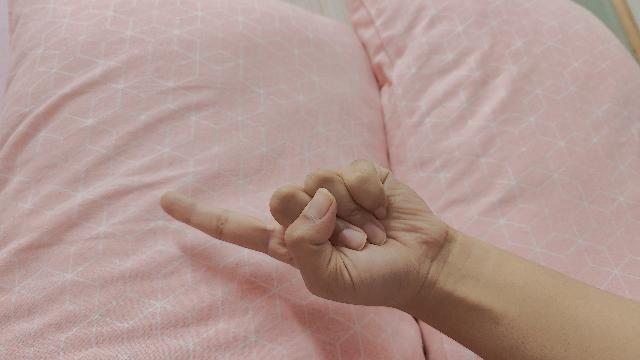soochi: (160, 161, 508, 342)
